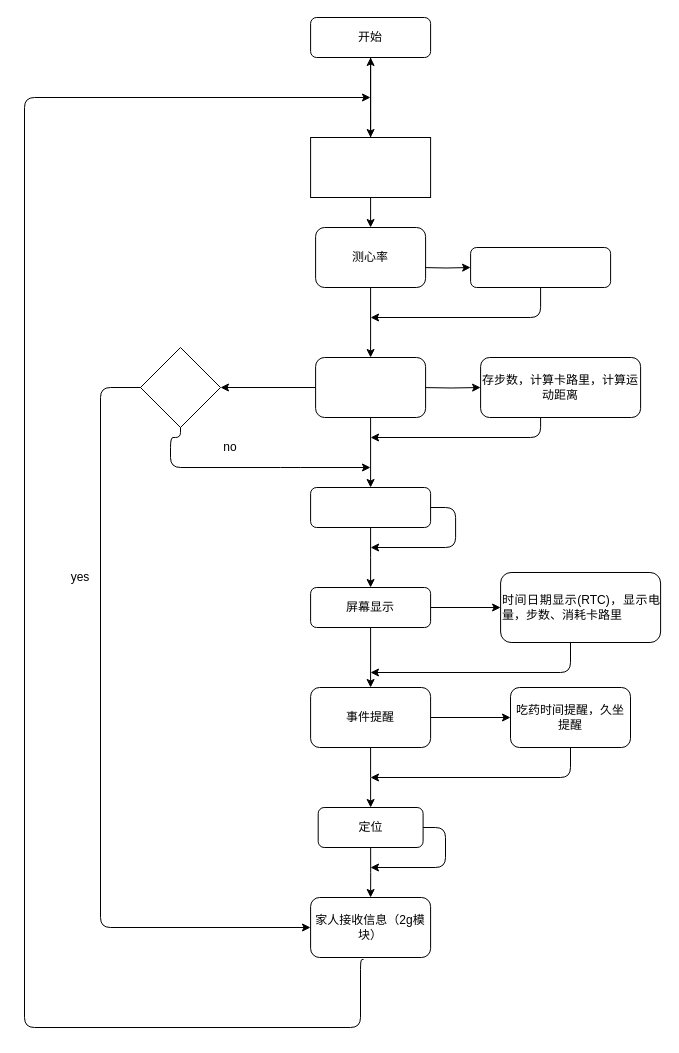
Some shapes in this 679 by 1053 pixel diagram are drawn without their labels. Each missing label, with the box of its shape:
判断老人是否摔倒状态: (140, 346, 220, 428)
存心率，判断运动状态: (470, 246, 611, 288)
测电量（ADC): (310, 486, 431, 528)
蓝牙收发(DA14683): (310, 136, 431, 198)
读3轴: (315, 356, 426, 418)
